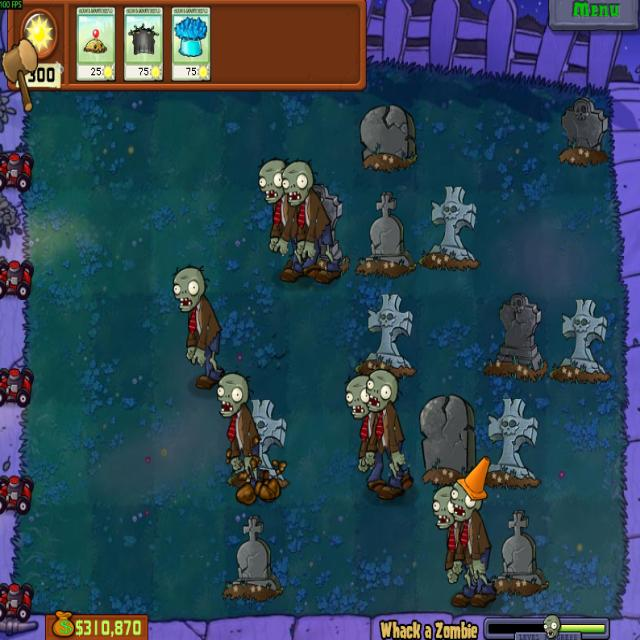conehead: (452, 455, 490, 519)
grave: (418, 394, 477, 485), (484, 398, 541, 489), (356, 192, 415, 278), (485, 295, 545, 379), (421, 186, 479, 272), (292, 186, 348, 275), (551, 299, 611, 382), (223, 517, 283, 598), (491, 509, 548, 594), (358, 292, 416, 374), (237, 398, 287, 483), (358, 103, 418, 170), (557, 98, 608, 168)
gravebuster: (123, 7, 163, 81)
zombie: (168, 265, 208, 314), (215, 371, 250, 419), (282, 161, 314, 209), (365, 370, 399, 414), (256, 160, 287, 203), (431, 485, 456, 531), (345, 375, 369, 419)
